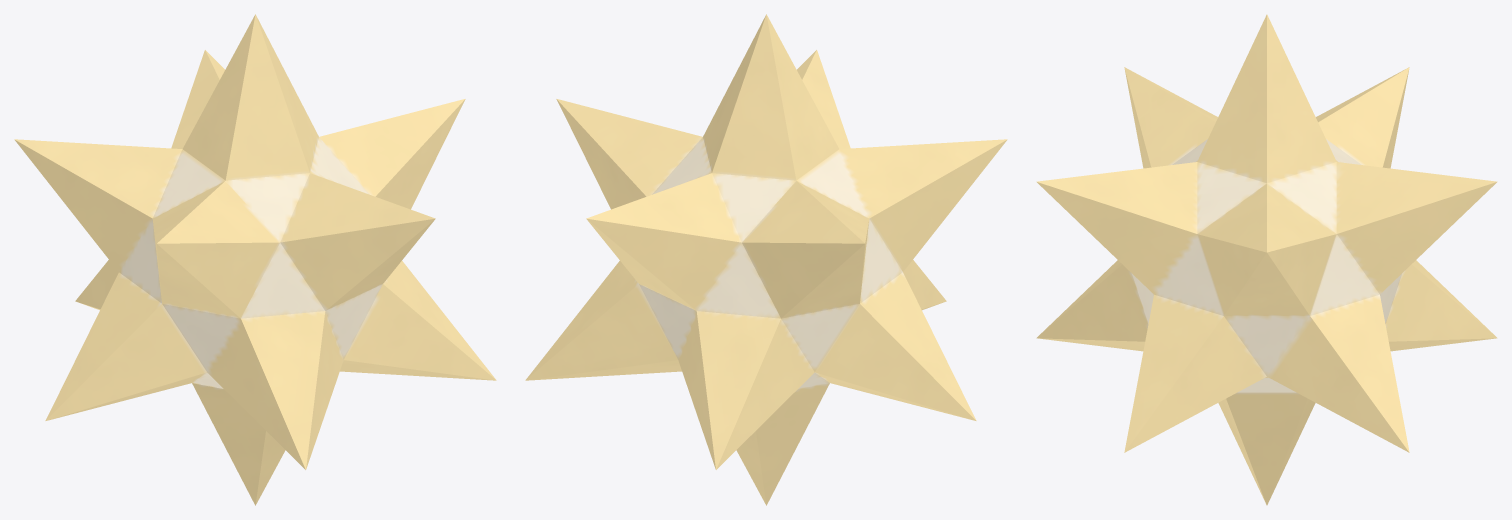
File: star-lantern.glb
The picture shows the model from 3 angles, left to right: view 1: azimuth 30°, elevation 25°; view 2: azimuth 150°, elevation 25°; view 3: azimuth 270°, elevation 25°; orthographic projection.
Visible parts, largest first — view 1: Star_Lantern; view 2: Star_Lantern; view 3: Star_Lantern.
Part boxes in pixels (bbox=[...]): Star_Lantern: bbox=[14, 14, 496, 505]; Star_Lantern: bbox=[525, 14, 1007, 505]; Star_Lantern: bbox=[1036, 14, 1497, 505].
Bounding box in the file's own units: 3.13 × 3.5 × 2.98.
1 material, 1 textured.
